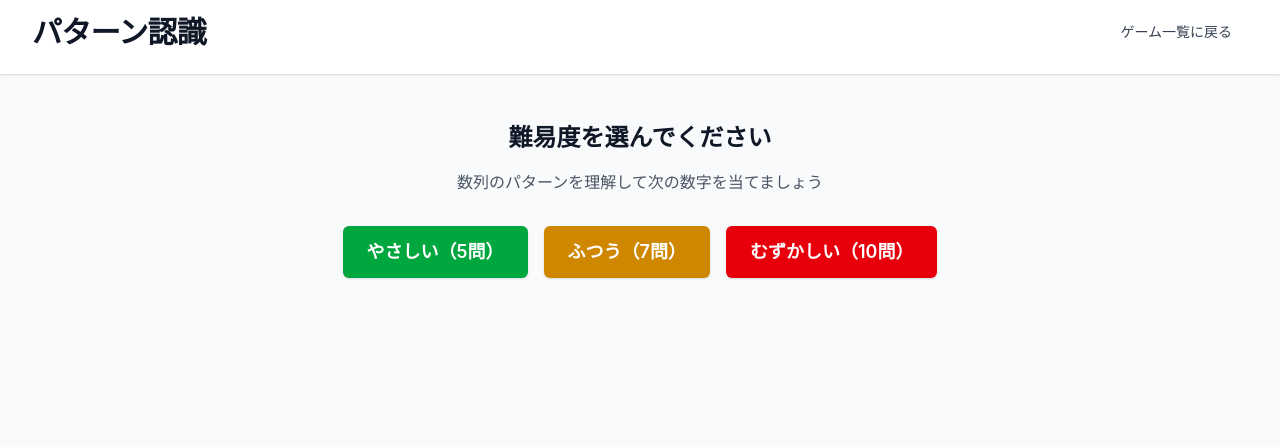
Test: PatternGame › should start game with hard difficulty
Click the button "むずかしい（10問）".
click(832, 252)  # box [726,226,938,278]
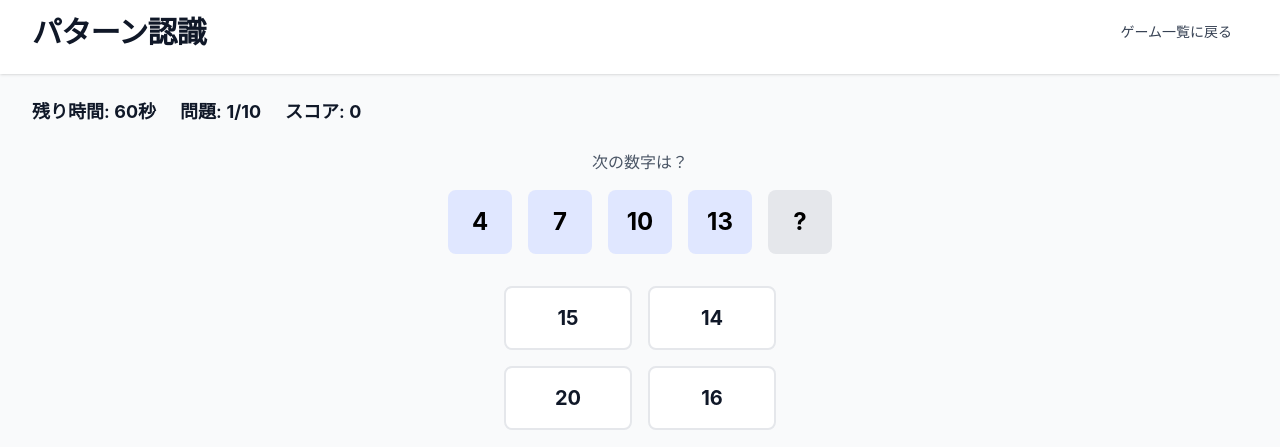
Check: the text "次の数字は？" is shown, box [592,150,688,174]
